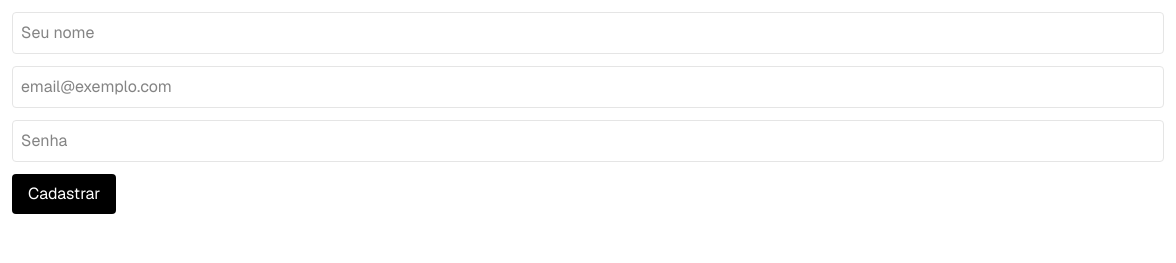
Scenario: SignUpForm › quando res.ok=false e json() falha, exibe fallback "Falha no cadastro"
Type "Ana" into the field with placeholder "Seu nome" at coordinates (588, 33), box left=12, top=12, right=1164, bottom=54
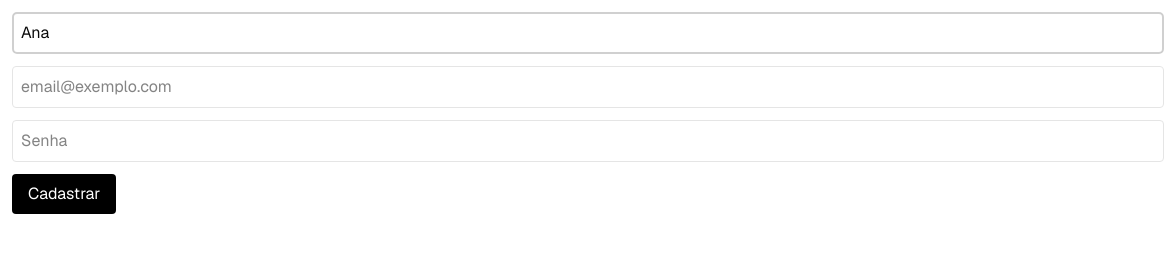
Type "ana@ex.com" into the field with placeholder "email@exemplo.com" at coordinates (588, 87), box left=12, top=66, right=1164, bottom=108
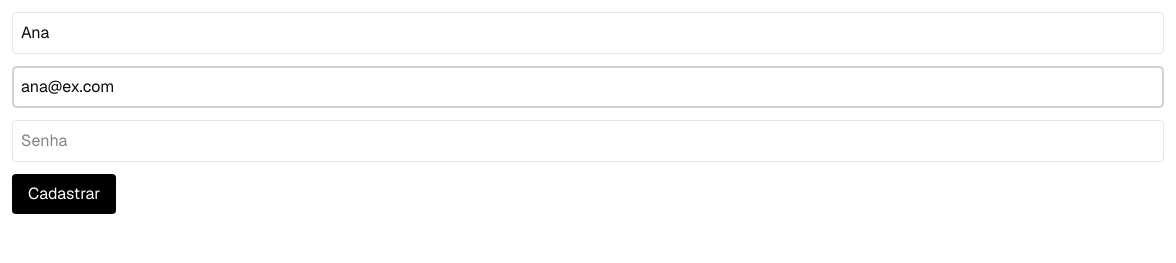
Type "123456" into the password field with placeholder "Senha" at coordinates (588, 141), box left=12, top=120, right=1164, bottom=162
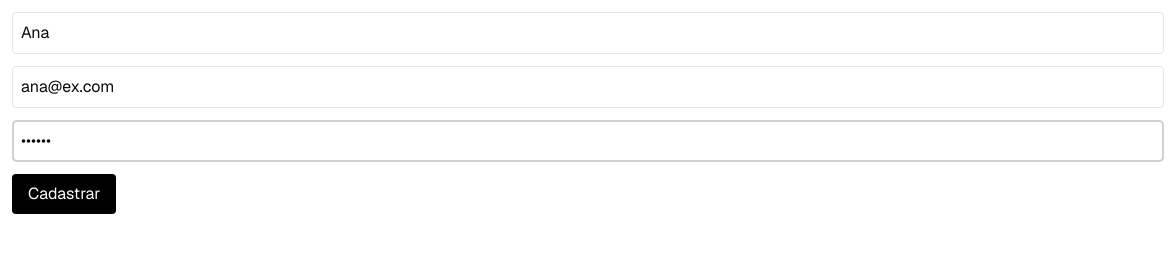
Click the button "Cadastrar" at coordinates (64, 194), box left=12, top=174, right=116, bottom=214
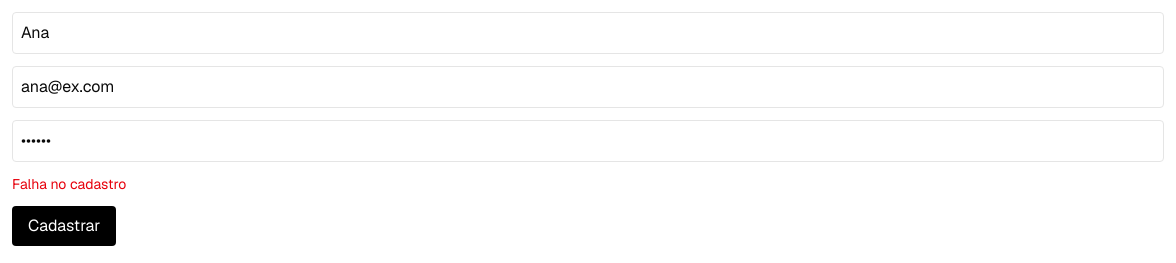
Check: the text "Falha no cadastro" is shown, box left=12, top=175, right=126, bottom=193
